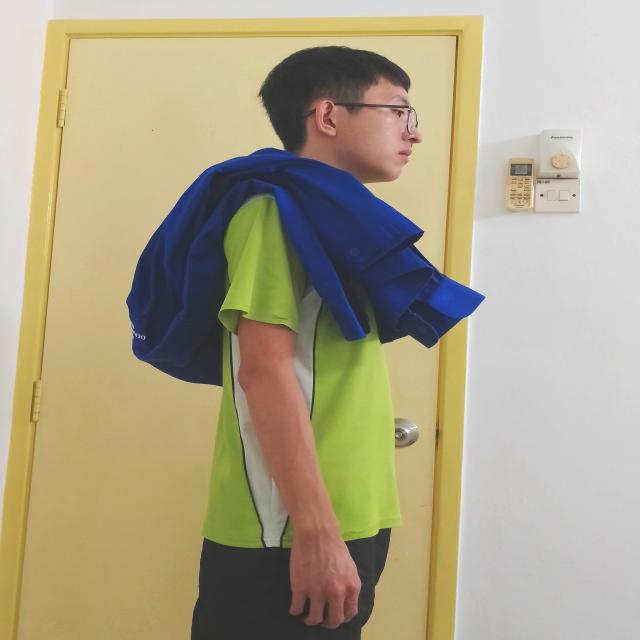person_without_labcoat: (129, 46, 482, 640)
